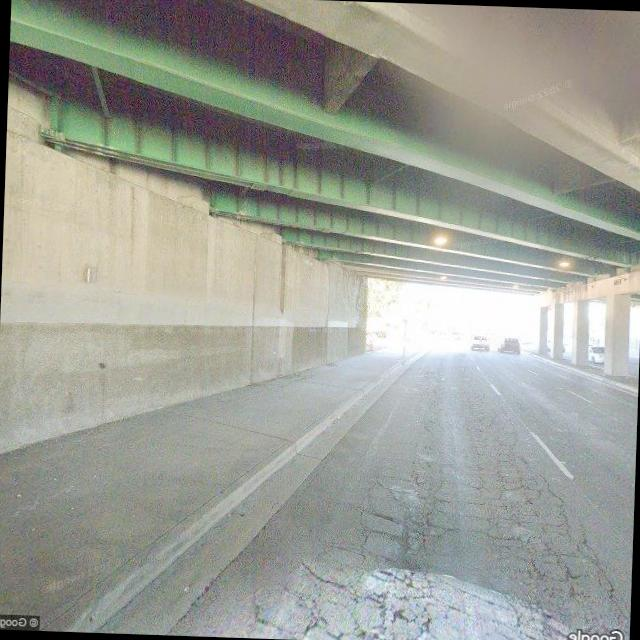crack: (291, 406, 627, 640)
